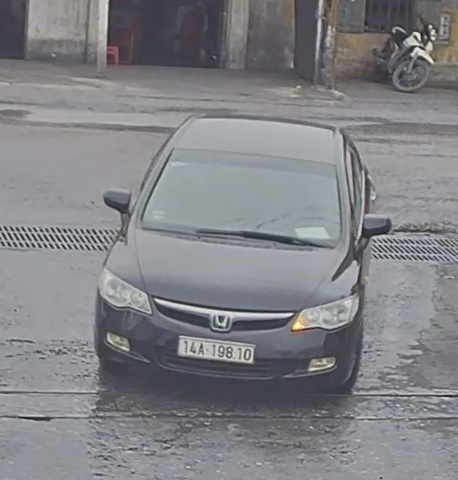vehicle plate: (175, 325, 261, 371)
